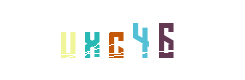4: (82, 0, 162, 80)
6: (125, 0, 205, 80)
C: (77, 0, 157, 80)
U: (42, 0, 122, 80)
X: (75, 0, 155, 80)
